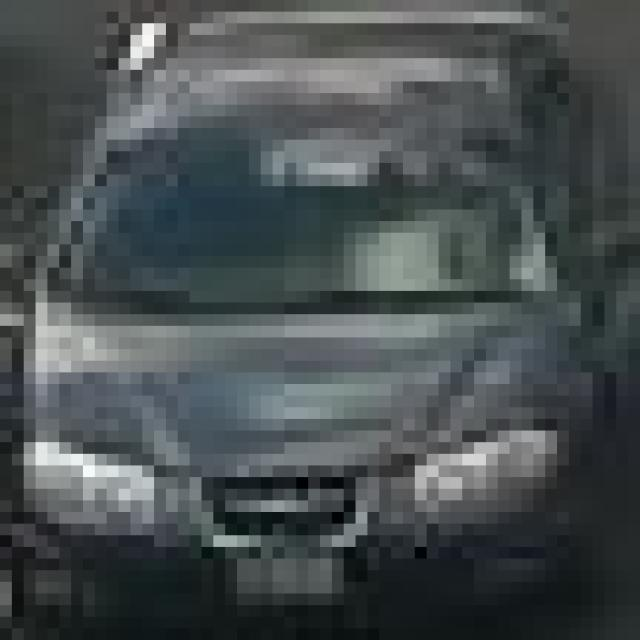Car: (44, 49, 602, 568)
